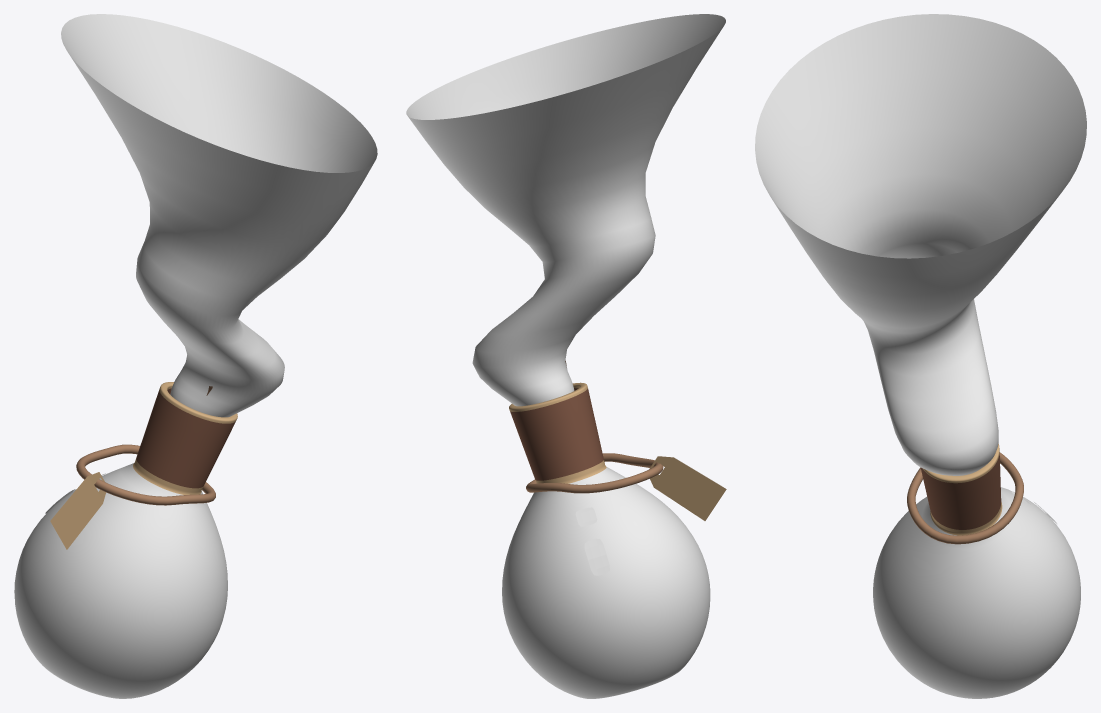
Rendered from Potion 1.fbx.
The picture shows the model from 3 angles, left to right: view 1: azimuth 30°, elevation 25°; view 2: azimuth 150°, elevation 25°; view 3: azimuth 270°, elevation 25°; orthographic projection. The views are drawn at different scales.
Parts seen in each view (by area): view 1: Sphere.001, Sphere, Plane, BézierCurve; view 2: Sphere.001, Sphere, Plane, BézierCurve, Plane.001; view 3: Sphere.001, Sphere, BézierCurve.
Part boxes in pixels (x1,y1,x2,y2): Sphere.001: [61, 14, 377, 417]; Sphere: [14, 382, 237, 698]; Plane: [50, 472, 105, 549]; BézierCurve: [76, 444, 215, 505]; Sphere.001: [406, 14, 725, 406]; Sphere: [502, 382, 710, 698]; Plane: [649, 456, 726, 520]; BézierCurve: [526, 453, 663, 493]; Plane.001: [584, 538, 609, 575]; Sphere.001: [755, 14, 1086, 475]; Sphere: [873, 444, 1080, 698]; BézierCurve: [907, 452, 1023, 544].
Size of the model in its own units: 313 by 648 by 303.
